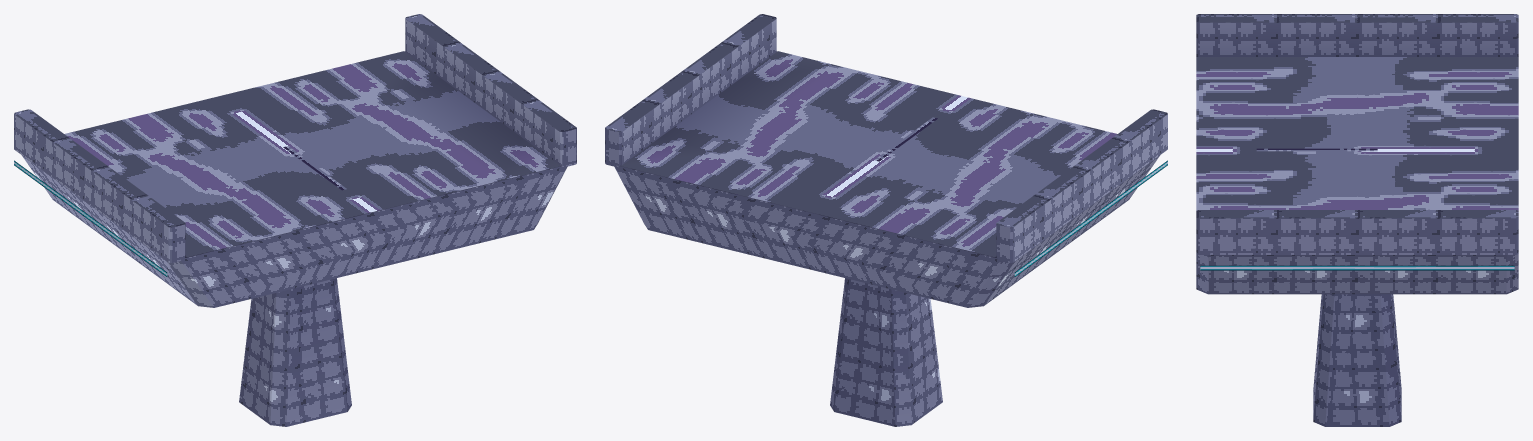
File: cystreet.elevated.glb
The picture shows the model from 3 angles, left to right: view 1: azimuth 30°, elevation 25°; view 2: azimuth 150°, elevation 25°; view 3: azimuth 270°, elevation 25°; orthographic projection. The views are drawn at different scales.
Visible parts, largest first — view 1: kit_deck, kit_shell_surface, kit_card_neon; view 2: kit_deck, kit_shell_surface, kit_card_neon; view 3: kit_deck, kit_shell_surface, kit_card_neon.
Part boxes in pixels (bbox=[...]): kit_deck: bbox=[14, 14, 576, 426]; kit_shell_surface: bbox=[64, 51, 560, 257]; kit_card_neon: bbox=[14, 160, 167, 276]; kit_deck: bbox=[605, 14, 1167, 426]; kit_shell_surface: bbox=[621, 51, 1117, 257]; kit_card_neon: bbox=[1014, 160, 1167, 276]; kit_deck: bbox=[1196, 14, 1518, 426]; kit_shell_surface: bbox=[1196, 57, 1518, 210]; kit_card_neon: bbox=[1200, 265, 1514, 270].
Bounding box in the file's own units: 12.05 × 7.95 × 8.
Materials: 6 (6 with a texture image).
